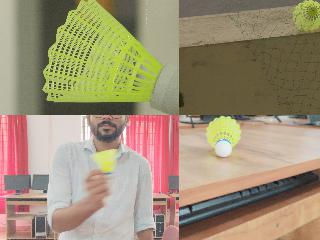shuttlecock: (43, 0, 178, 114), (206, 115, 240, 157), (90, 148, 118, 178), (292, 0, 319, 31)
